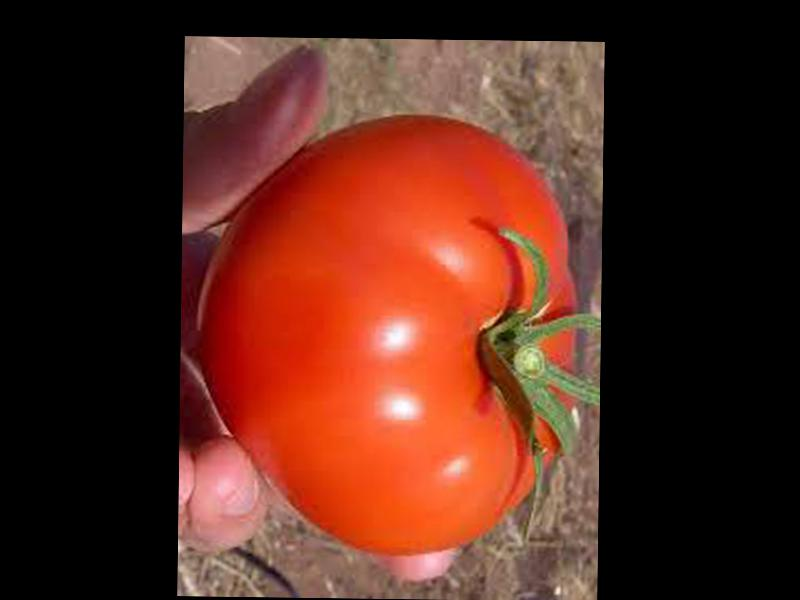Tomato: (199, 118, 577, 556)
